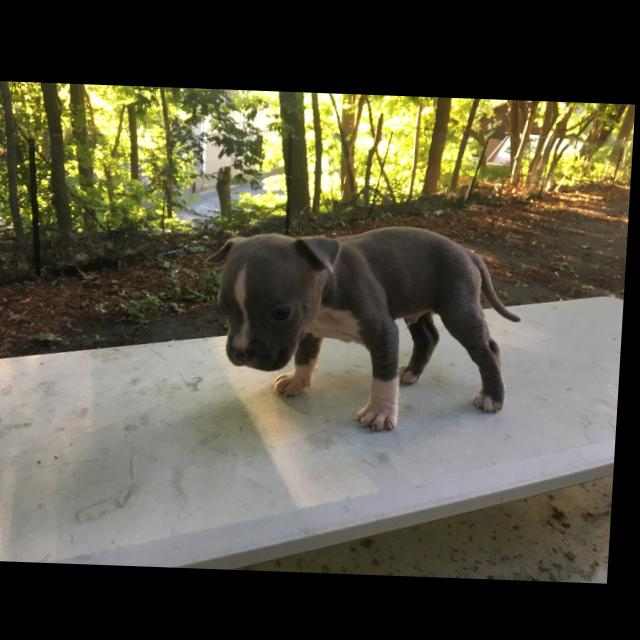am_pit_bull_terrier: (201, 216, 530, 434)
